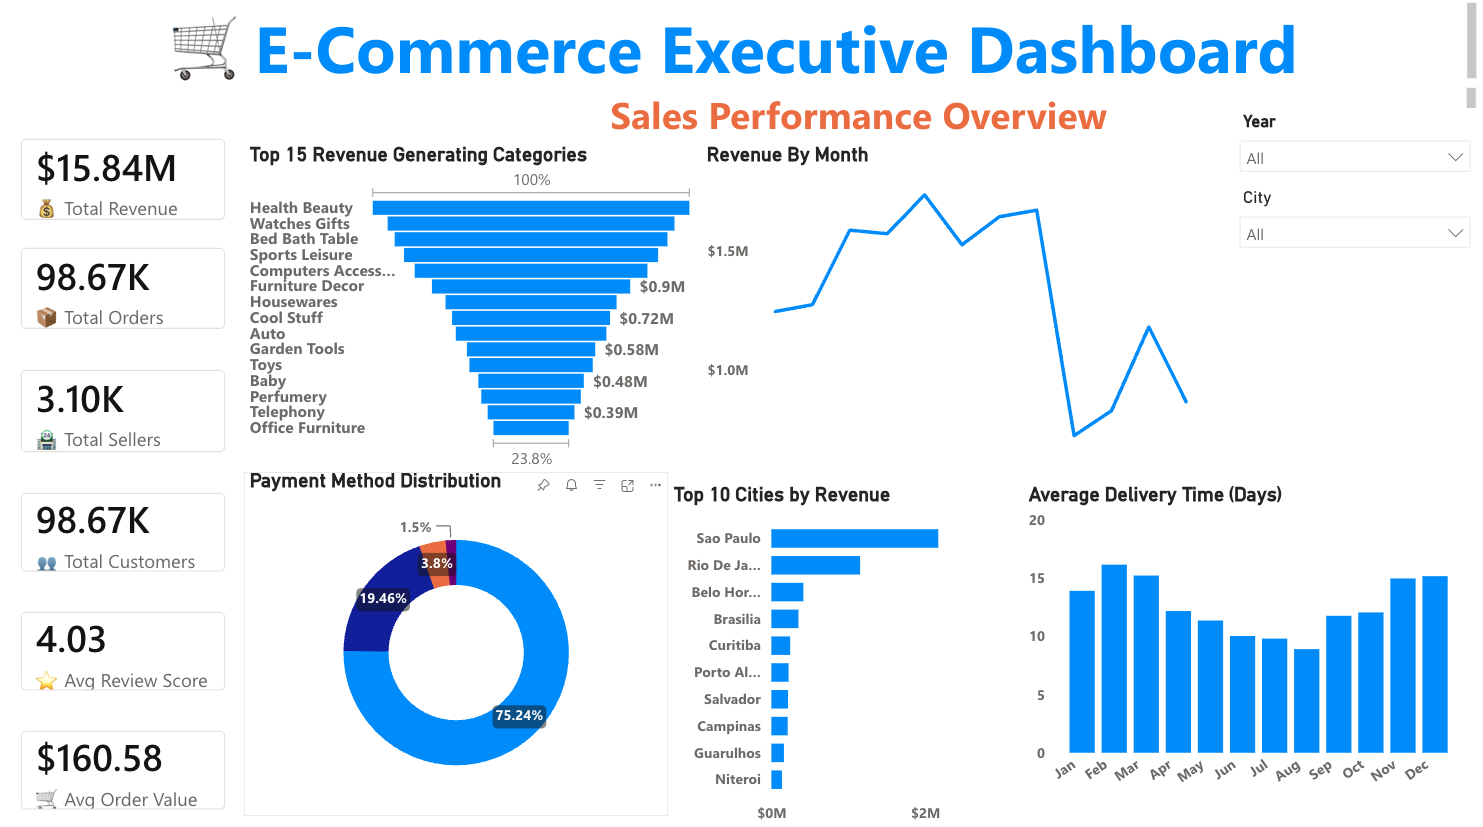

Layout of this report page (visuals, bound fields, positions):
{"tool":"powerbi","page":{"name":"Sales","canvas":[1280,720],"ordinal":1},"visuals":[{"type":"cardVisual","fields":{"Data":["KPI Measures.Total_Orders"]},"box":[4.1,199.1,210.4,104.7],"z":0},{"type":"cardVisual","fields":{"Data":["KPI Measures.Total_Customers"]},"box":[4.1,409.6,210.4,102.6],"z":1},{"type":"cardVisual","fields":{"Data":["KPI Measures.Total_Sellers"]},"box":[4.1,303.8,210.4,105.7],"z":2},{"type":"cardVisual","fields":{"Data":["KPI Measures.Total_Revenue"]},"box":[4.1,104.7,210.4,104.7],"z":3},{"type":"cardVisual","fields":{"Data":["KPI Measures.Average Review Score"]},"box":[4.1,512.2,210.4,102.6],"z":4},{"type":"cardVisual","fields":{"Data":["KPI Measures.Average Order Value"]},"box":[4.1,614.9,210.4,102.6],"z":5},{"type":"textbox","box":[0,0,1280,81.1],"z":6},{"type":"textbox","box":[213.5,72.9,1066.5,47.2],"z":7},{"type":"funnel","title":"Top 15 Revenue Generating Categories","fields":{"Category":["dim_category.product_category_name_english"],"Y":["KPI Measures.Total_Revenue"]},"box":[213.5,128.3,393.6,281.1],"z":8},{"type":"lineChart","title":"Revenue By Month","fields":{"Category":["dim_date.month_short"],"Y":["KPI Measures.Total_Revenue"]},"box":[607.1,128.3,435.7,280.2],"z":9},{"type":"donutChart","title":"Payment Method Distribution","fields":{"Category":["fact_payments.payment_type"],"Y":["Count(fact_payments.order_id)"]},"box":[213.5,409.4,365.5,296.1],"z":10},{"type":"slicer","fields":{"Values":["dim_date.year"]},"box":[1061.2,95.8,218.8,65.9],"z":11},{"type":"slicer","fields":{"Values":["dim_customer.customer_city"]},"box":[1061.2,160.8,218.8,60.6],"z":12},{"type":"columnChart","title":"Average Delivery Time (Days)","fields":{"Category":["dim_date.month_short"],"Y":["KPI Measures.Average Delivery Days"]},"box":[884.7,420.8,382.2,276.7],"z":14},{"type":"clusteredBarChart","title":"Top 10 Cities by Revenue","fields":{"Category":["dim_customer.customer_city"],"Y":["KPI Measures.Total_Revenue"]},"box":[578.9,420.8,305.7,299.6],"z":15}]}

Visuals, with their boxes in screenshot pixels (x1, y1, x2, y2), scaled from the page's 1280x720 canvas onto the 1483x827 screenshot:
cardVisual - KPI Measures.Total_Orders: x1=5 y1=229 x2=249 y2=349
cardVisual - KPI Measures.Total_Customers: x1=5 y1=470 x2=249 y2=588
cardVisual - KPI Measures.Total_Sellers: x1=5 y1=349 x2=249 y2=470
cardVisual - KPI Measures.Total_Revenue: x1=5 y1=120 x2=249 y2=241
cardVisual - KPI Measures.Average Review Score: x1=5 y1=588 x2=249 y2=706
cardVisual - KPI Measures.Average Order Value: x1=5 y1=706 x2=249 y2=824
textbox: x1=0 y1=0 x2=1482 y2=93
textbox: x1=247 y1=84 x2=1482 y2=138
"Top 15 Revenue Generating Categories" funnel: x1=247 y1=147 x2=703 y2=470
"Revenue By Month" lineChart: x1=703 y1=147 x2=1208 y2=469
"Payment Method Distribution" donutChart: x1=247 y1=470 x2=671 y2=810
slicer - dim_date.year: x1=1229 y1=110 x2=1482 y2=186
slicer - dim_customer.customer_city: x1=1229 y1=185 x2=1482 y2=254
"Average Delivery Time (Days)" columnChart: x1=1025 y1=483 x2=1468 y2=801
"Top 10 Cities by Revenue" clusteredBarChart: x1=671 y1=483 x2=1025 y2=826
